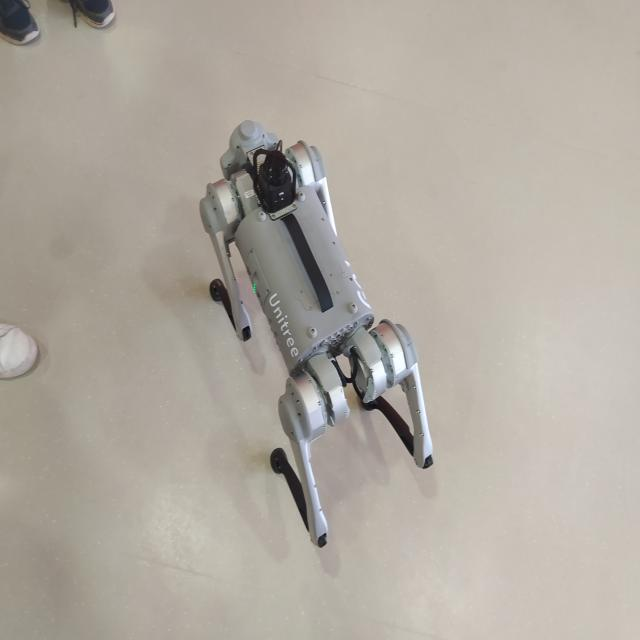unitree-go1-robot: (192, 102, 443, 560)
